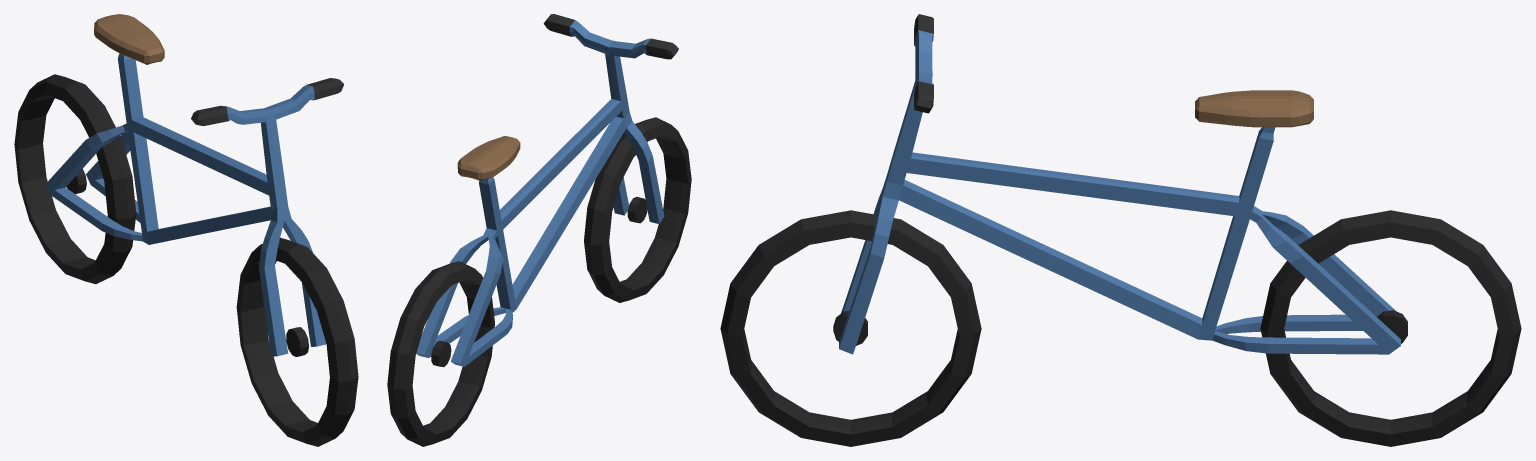
The model's file is bicycle-city.glb.
3 renders of one model, left to right at view 1: azimuth 30°, elevation 25°; view 2: azimuth 150°, elevation 25°; view 3: azimuth 270°, elevation 25°, orthographic. The views are drawn at different scales.
Parts seen in each view (by area): view 1: bicycle-city; view 2: bicycle-city; view 3: bicycle-city.
Boxes of the visible parts, box(x1,y1,x2,y2) form: bicycle-city: box(14, 14, 358, 446); bicycle-city: box(387, 14, 691, 446); bicycle-city: box(720, 14, 1521, 446).
Bounding box in the file's own units: 0.4518 × 0.9464 × 1.75.
